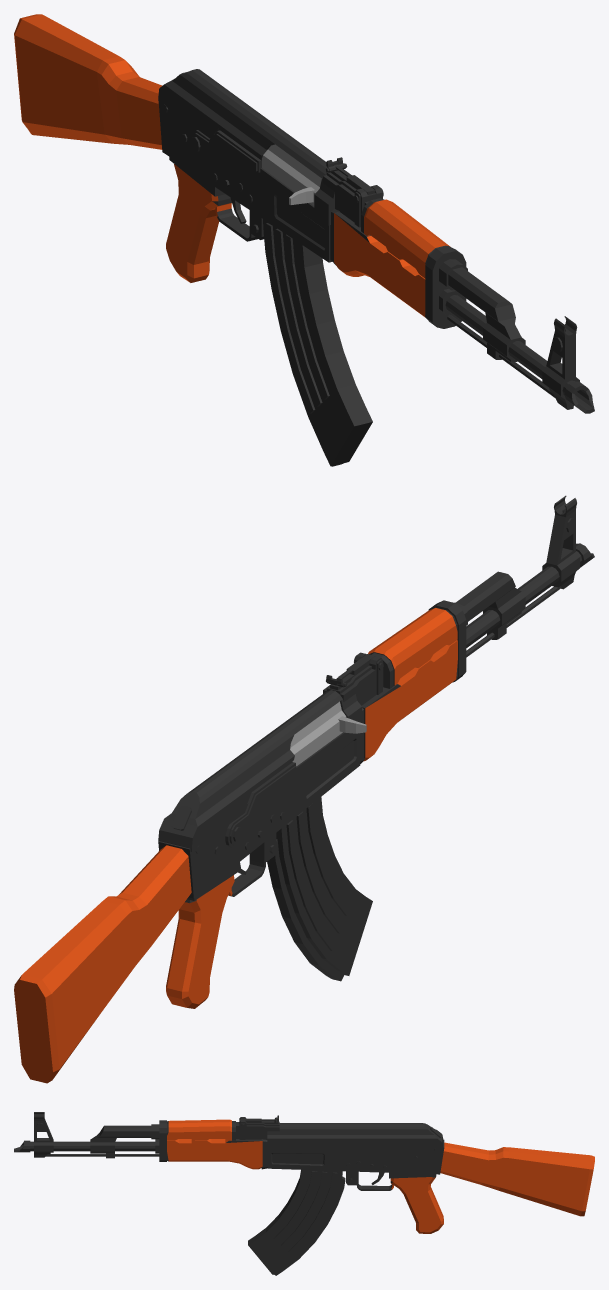
File: AK 47 Real.fbx
3 views of the same model, one above another, from view 1: azimuth 30°, elevation 25°; view 2: azimuth 150°, elevation 25°; view 3: azimuth 270°, elevation 25° (orthographic). The views are drawn at different scales.
Parts seen in each view (by area): view 1: assault_rifle_01, assault_rifle_01_mag, assault_rifle_01_iron_sights, assault_rifle_01_slider; view 2: assault_rifle_01, assault_rifle_01_mag, assault_rifle_01_iron_sights, assault_rifle_01_slider; view 3: assault_rifle_01, assault_rifle_01_mag, assault_rifle_01_iron_sights.
Part boxes in pixels (<box>): assault_rifle_01: <box>14,14,594,413</box>; assault_rifle_01_mag: <box>263,219,372,466</box>; assault_rifle_01_iron_sights: <box>325,157,579,409</box>; assault_rifle_01_slider: <box>262,144,321,205</box>; assault_rifle_01: <box>14,543,594,1083</box>; assault_rifle_01_mag: <box>267,797,372,981</box>; assault_rifle_01_iron_sights: <box>326,495,579,690</box>; assault_rifle_01_slider: <box>290,701,366,766</box>; assault_rifle_01: <box>14,1117,594,1233</box>; assault_rifle_01_mag: <box>248,1170,345,1275</box>; assault_rifle_01_iron_sights: <box>34,1112,278,1157</box>.
Size of the model in its own units: 5.43 by 28.3 by 92.19.
